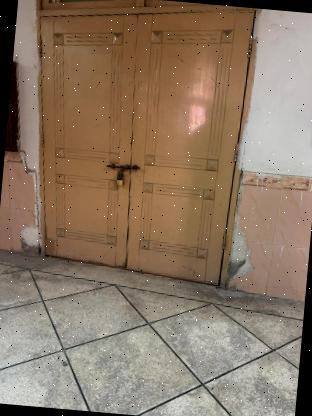door: (17, 0, 264, 285)
